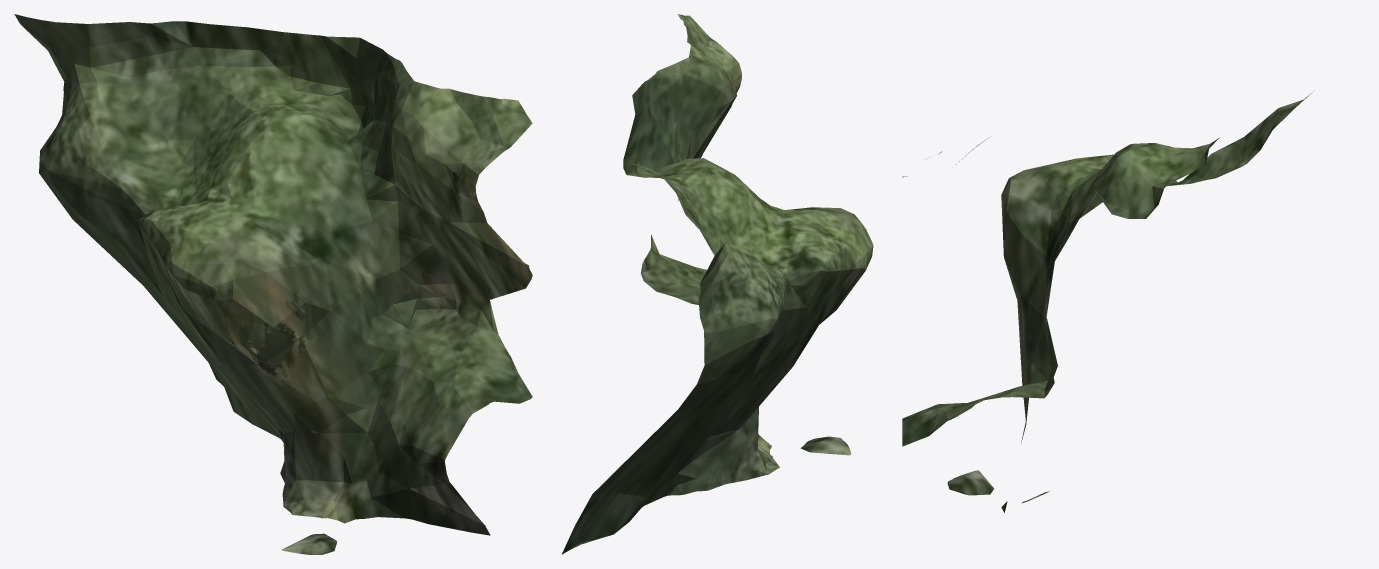
3 views of the same model, side by side, from view 1: azimuth 30°, elevation 25°; view 2: azimuth 150°, elevation 25°; view 3: azimuth 270°, elevation 25° (orthographic). The views are drawn at different scales.
Bounding box in the file's own units: 2.16 × 2.95 × 2.95.
Materials: 4 (4 with a texture image).
